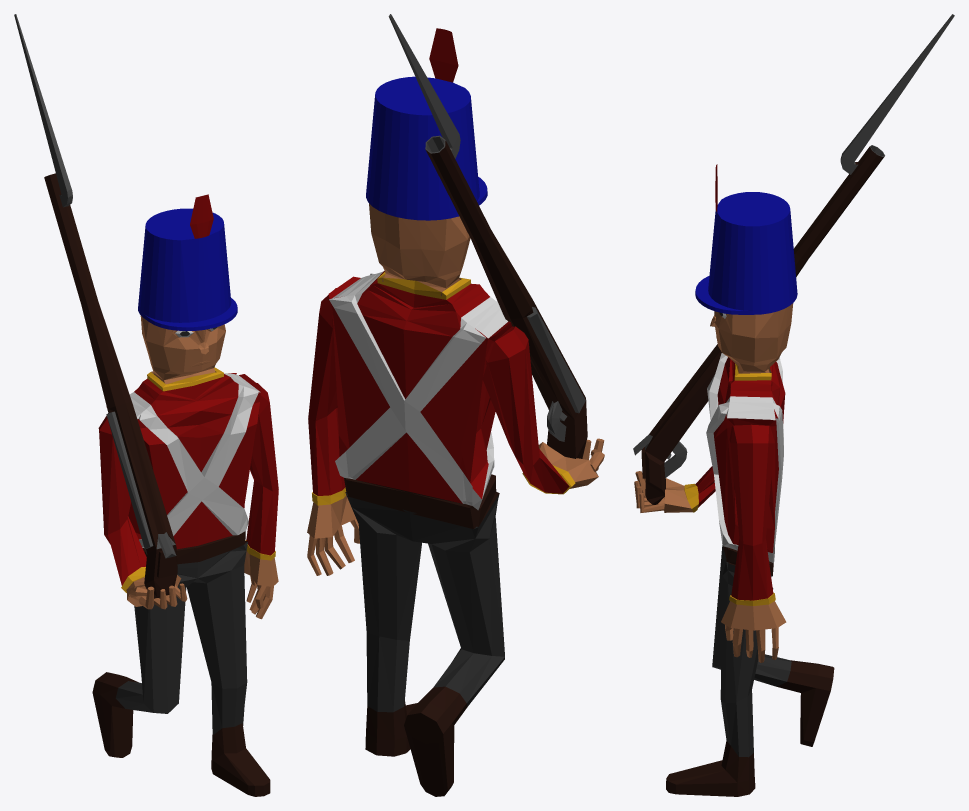
The model's file is Infantry_000153.obj.
3 renders of one model, left to right at view 1: azimuth 30°, elevation 25°; view 2: azimuth 150°, elevation 25°; view 3: azimuth 270°, elevation 25°, orthographic. The views are drawn at different scales.
Visible parts, largest first — view 1: {Man}_Circle, {Mesket}_Cube.001; view 2: {Man}_Circle, {Mesket}_Cube.001; view 3: {Man}_Circle, {Mesket}_Cube.001.
Part boxes in pixels (bbox=[...]): {Man}_Circle: bbox=[92, 194, 278, 796]; {Mesket}_Cube.001: bbox=[14, 14, 177, 598]; {Man}_Circle: bbox=[307, 28, 604, 796]; {Mesket}_Cube.001: bbox=[388, 14, 587, 458]; {Man}_Circle: bbox=[634, 164, 834, 796]; {Mesket}_Cube.001: bbox=[633, 14, 954, 504].
Size of the model in its own units: 5.63 by 19.62 by 7.93.
